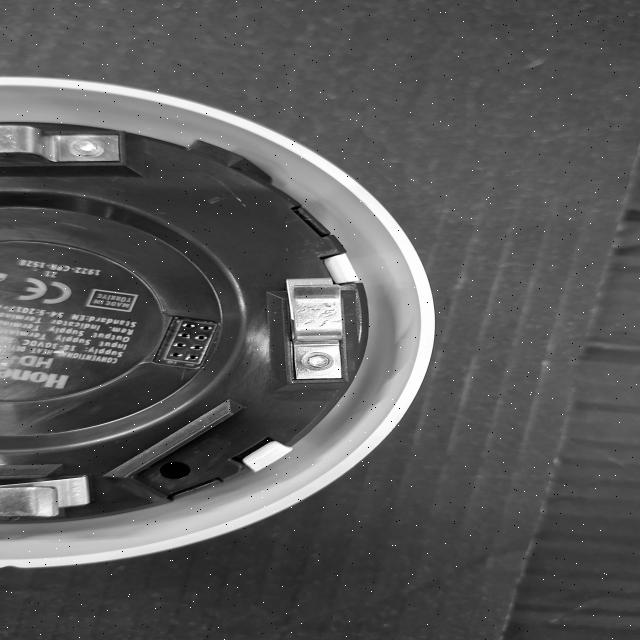yayli: (273, 266, 360, 389)
